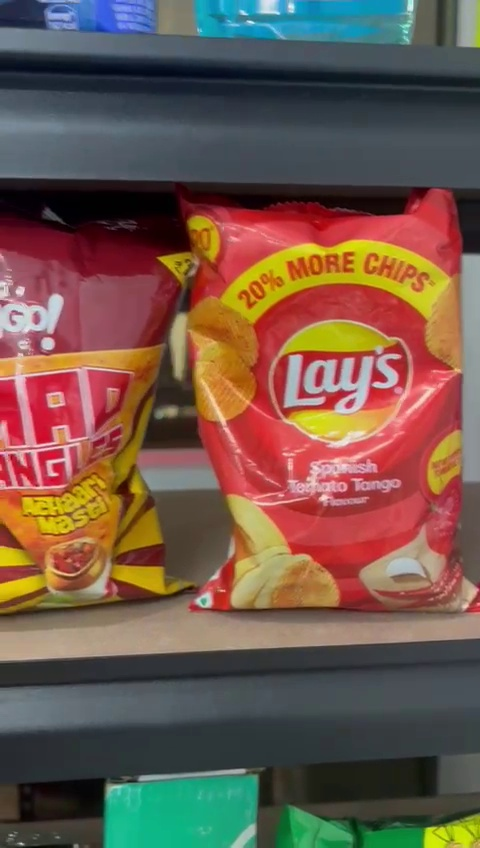Lays: (189, 201, 475, 613)
